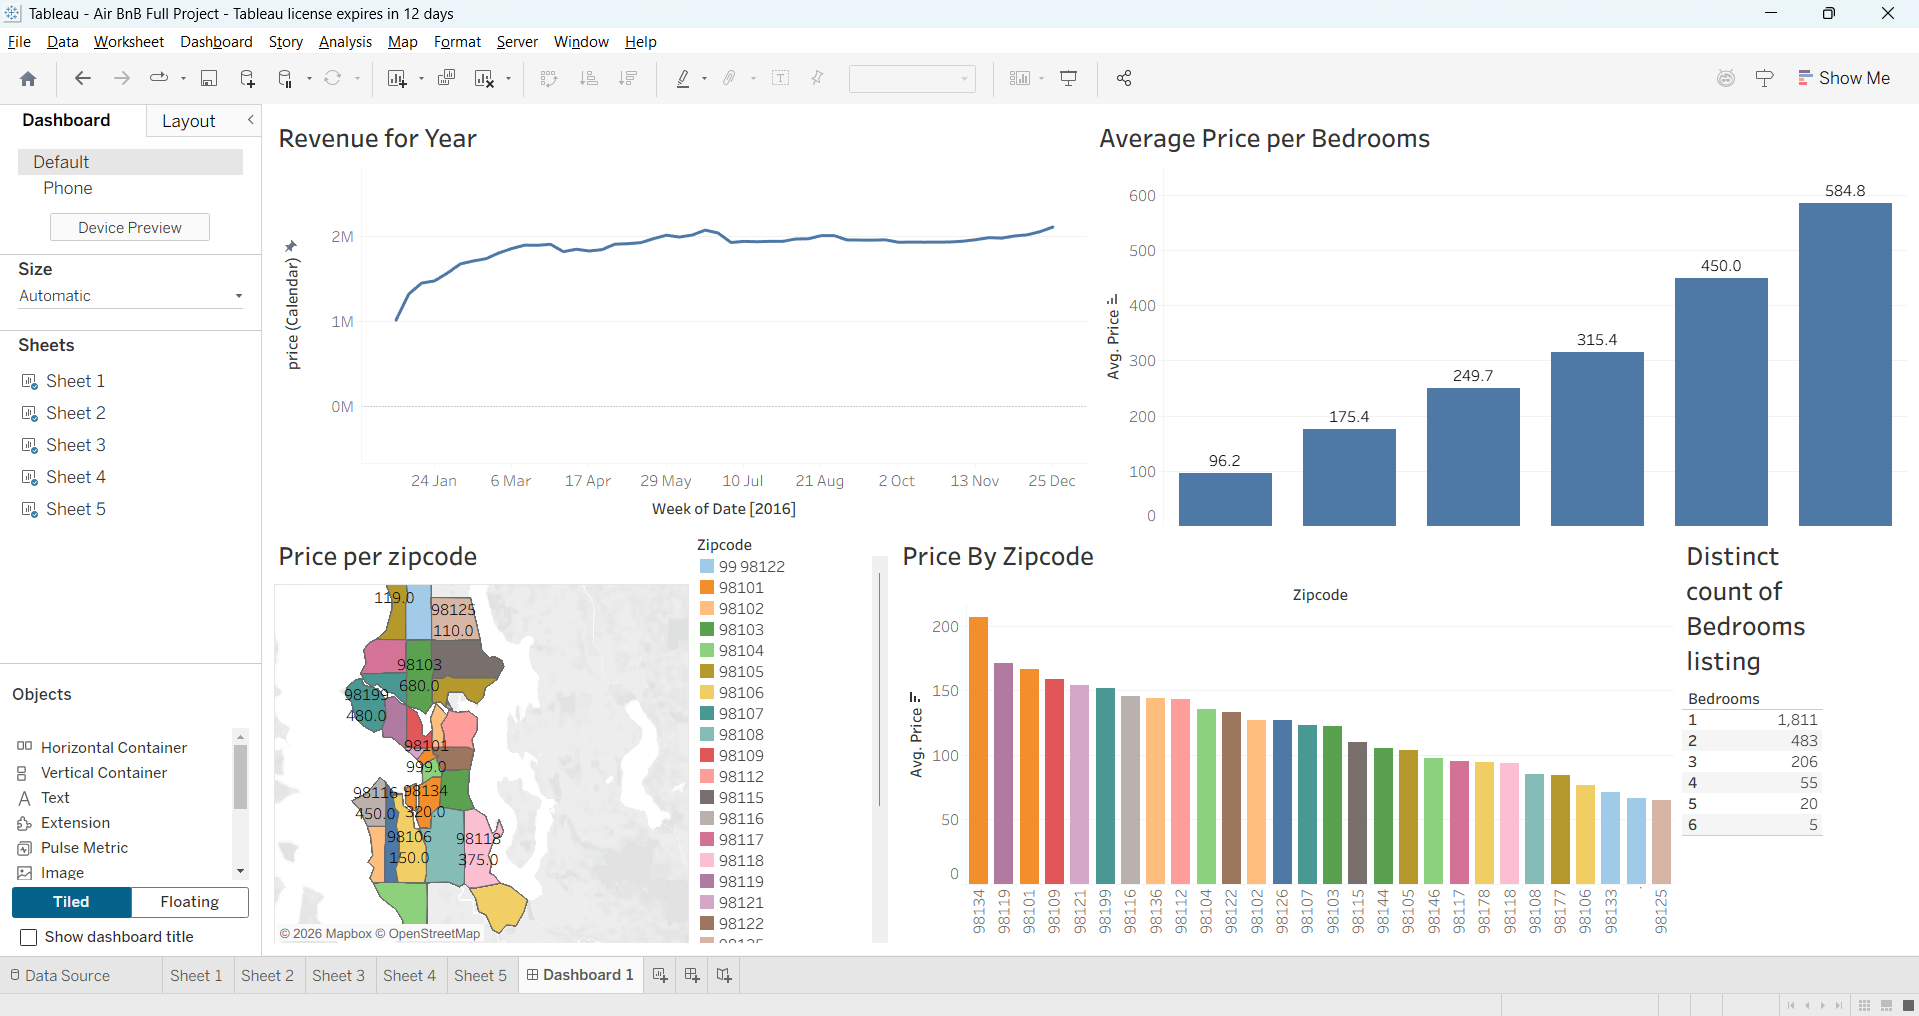

Layout of this report page (visuals, bound fields, positions):
{"tool":"tableau","page":{"name":"Dashboard 1","canvas":[1000,1000],"units":"permille","ordinal":0},"visuals":[{"type":"worksheet","title":"Sheet 3","mark":"Automatic","rows":["price (Calendar)"],"cols":["date"],"box":[4.8,9.4,495.2,490.6]},{"type":"worksheet","title":"Sheet 4","mark":"Automatic","rows":["price"],"cols":["bedrooms"],"box":[500,9.4,495.2,490.6]},{"type":"worksheet","title":"Sheet 2","mark":"Multipolygon","box":[4.8,500,255.3,490.6]},{"type":"legend","title":"Sheet 1","param":"[federated.07cwhxb10mu2k513p69hu1nd0ubc].[none:zipcode:nk]","box":[260.1,500,121.3,490.6]},{"type":"worksheet","title":"Sheet 1","mark":"Automatic","rows":["price"],"cols":["zipcode"],"box":[381.4,500,473.4,490.6]},{"type":"worksheet","title":"Sheet 5","mark":"Automatic","rows":["bedrooms"],"box":[854.8,500,140.4,490.6]}]}

Visuals, with their boxes on the dashboard's canvas, which has no fixed pixel size, in thousandths of its width and height (x1, y1, x2, y2). These are canvas units, not pixel positions in the 1919x1016 screenshot, which may show the page scaled, cropped or inside an application window:
"Sheet 3" worksheet: locate(5, 9, 500, 500)
"Sheet 4" worksheet: locate(500, 9, 995, 500)
"Sheet 2" worksheet (Multipolygon marks): locate(5, 500, 260, 991)
"Sheet 1" legend: locate(260, 500, 381, 991)
"Sheet 1" worksheet: locate(381, 500, 855, 991)
"Sheet 5" worksheet: locate(855, 500, 995, 991)
